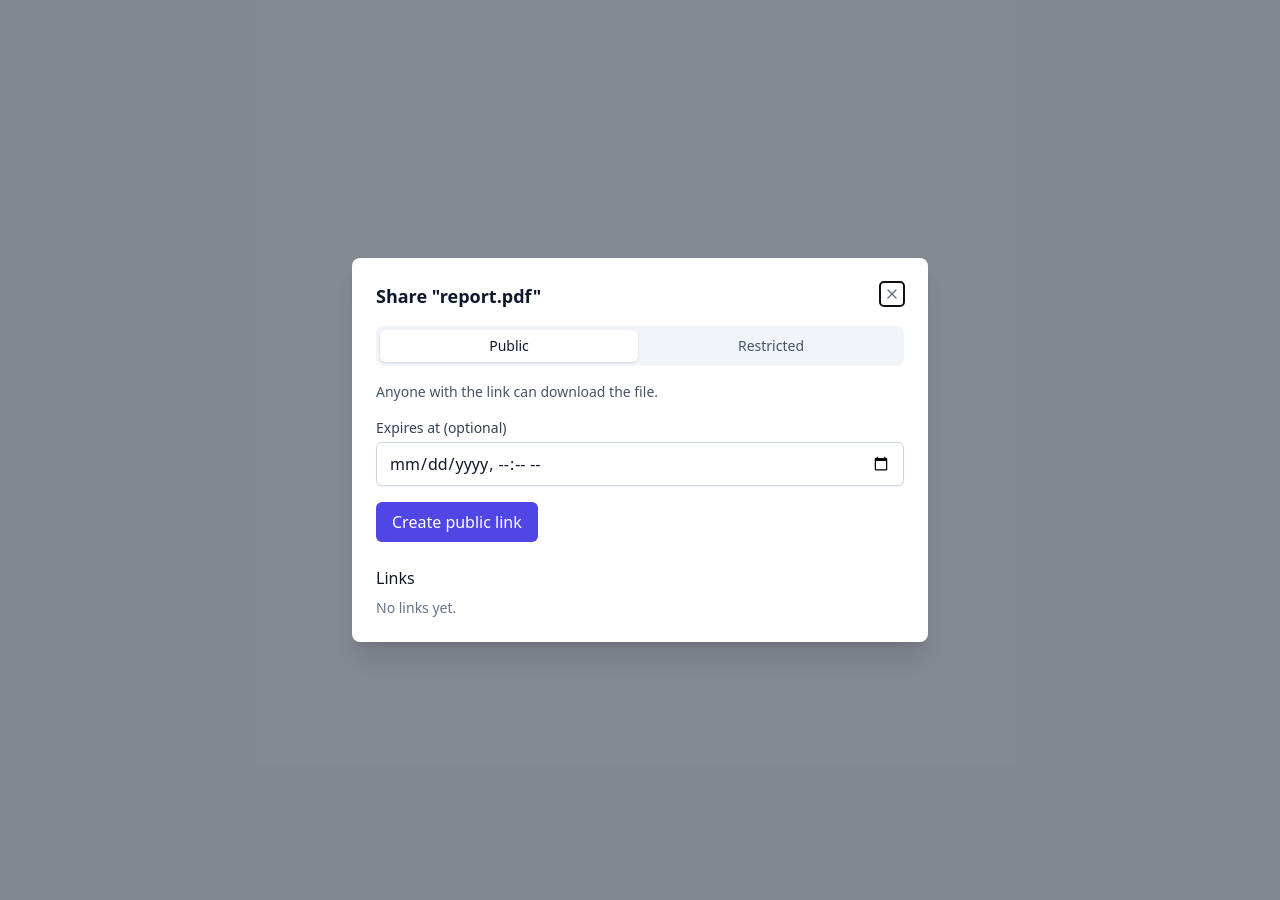
Test: ShareDialog › creates a restricted link for users picked via autocomplete
Click the tab "Restricted": (771,346) [642,330,900,362]
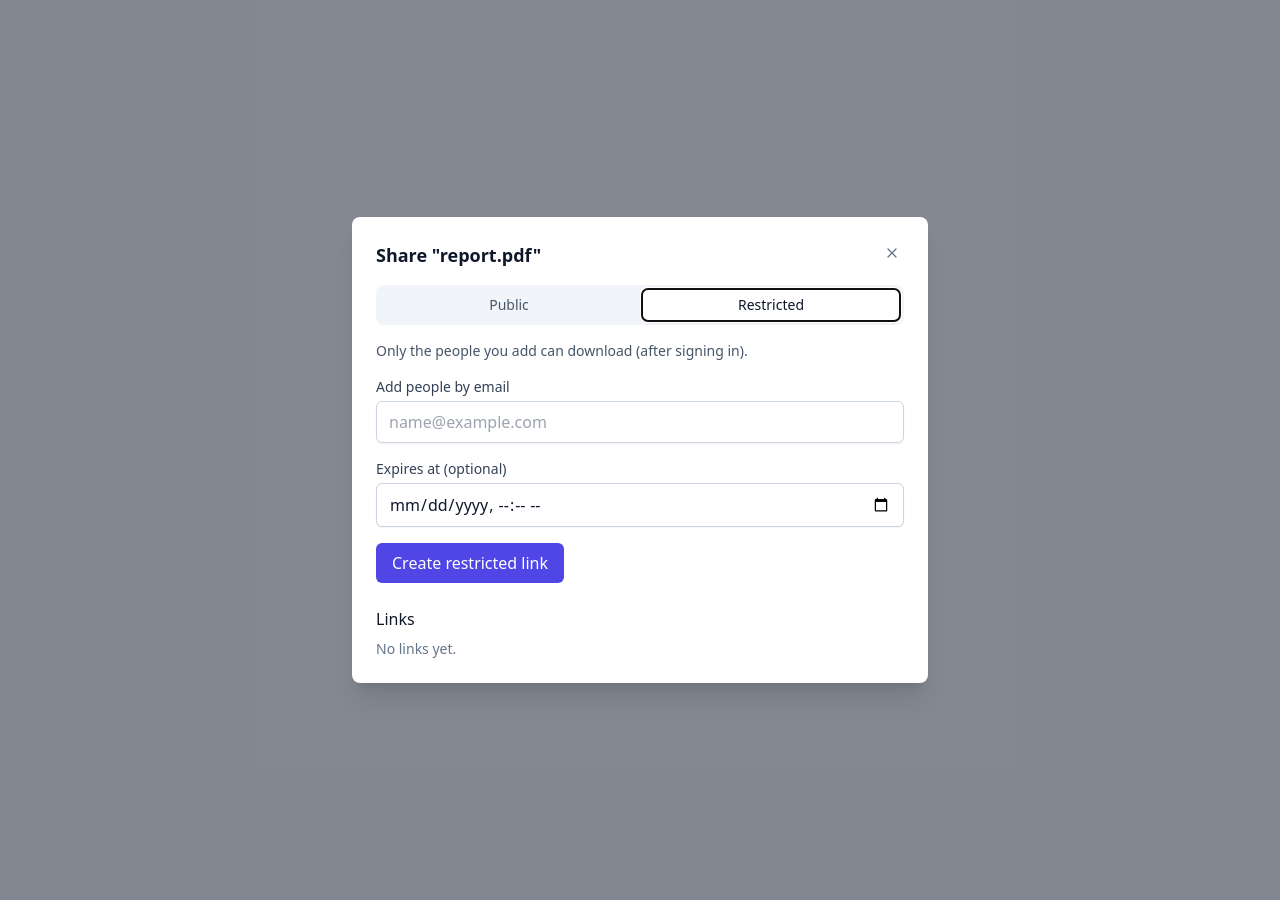
Click the button "Create restricted link": (470,563) [376,543,564,583]
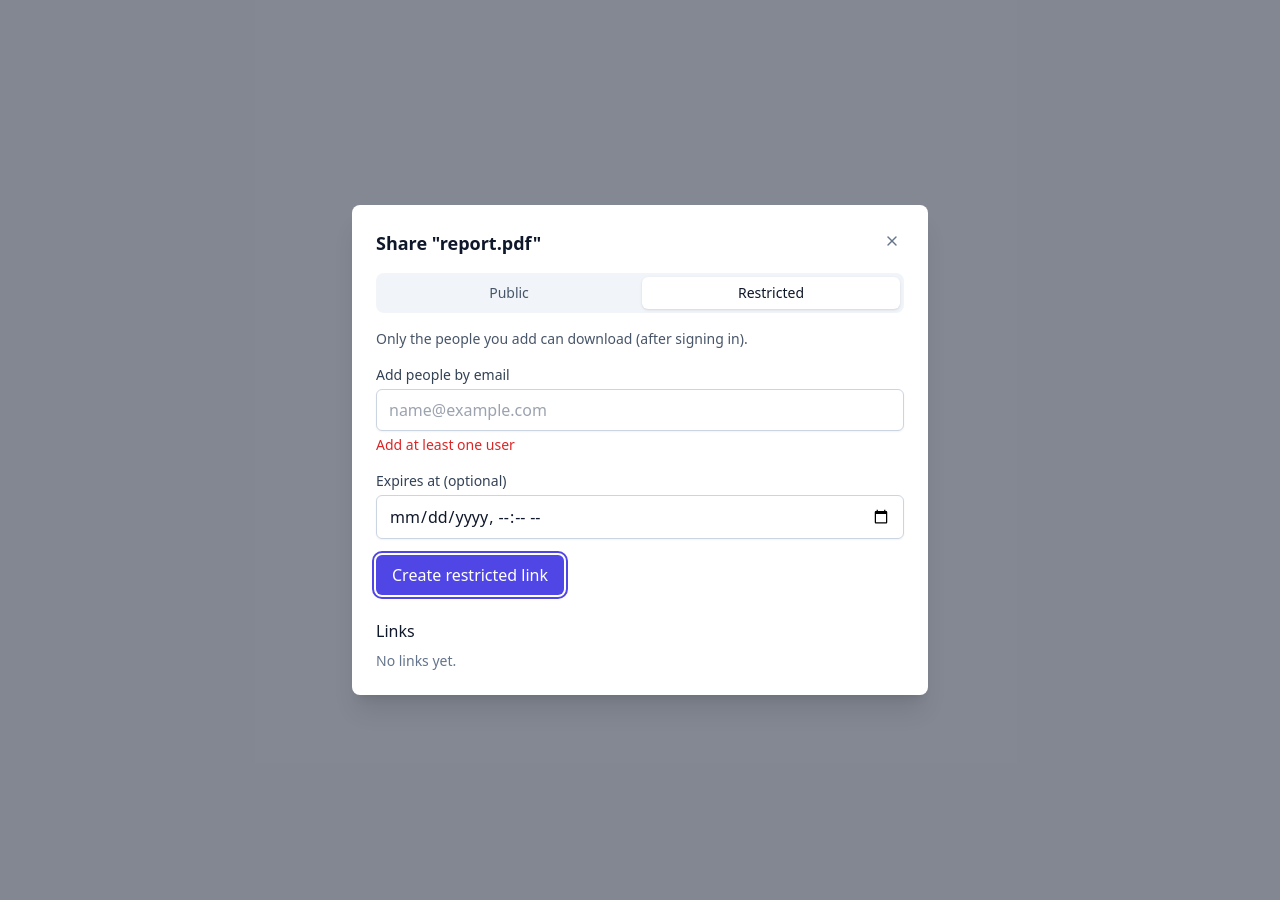
Expected: the text "Add at least one user" is shown, [376,435,515,454]
In the dropdown labelled "Add people by email": (640,410) [376,389,904,431], type "bob@"
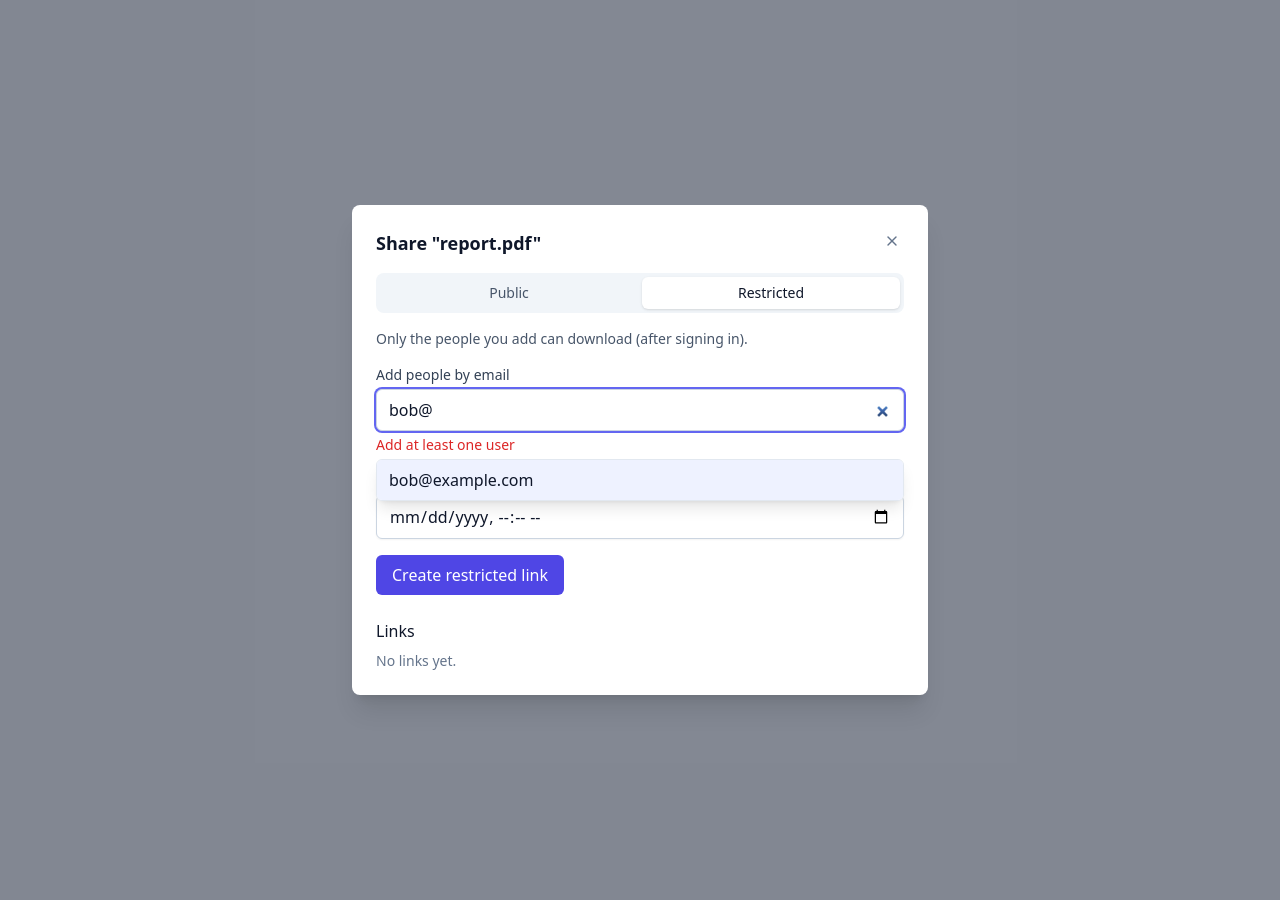
Click the option "bob@example.com": (461,480) [377,460,903,500]
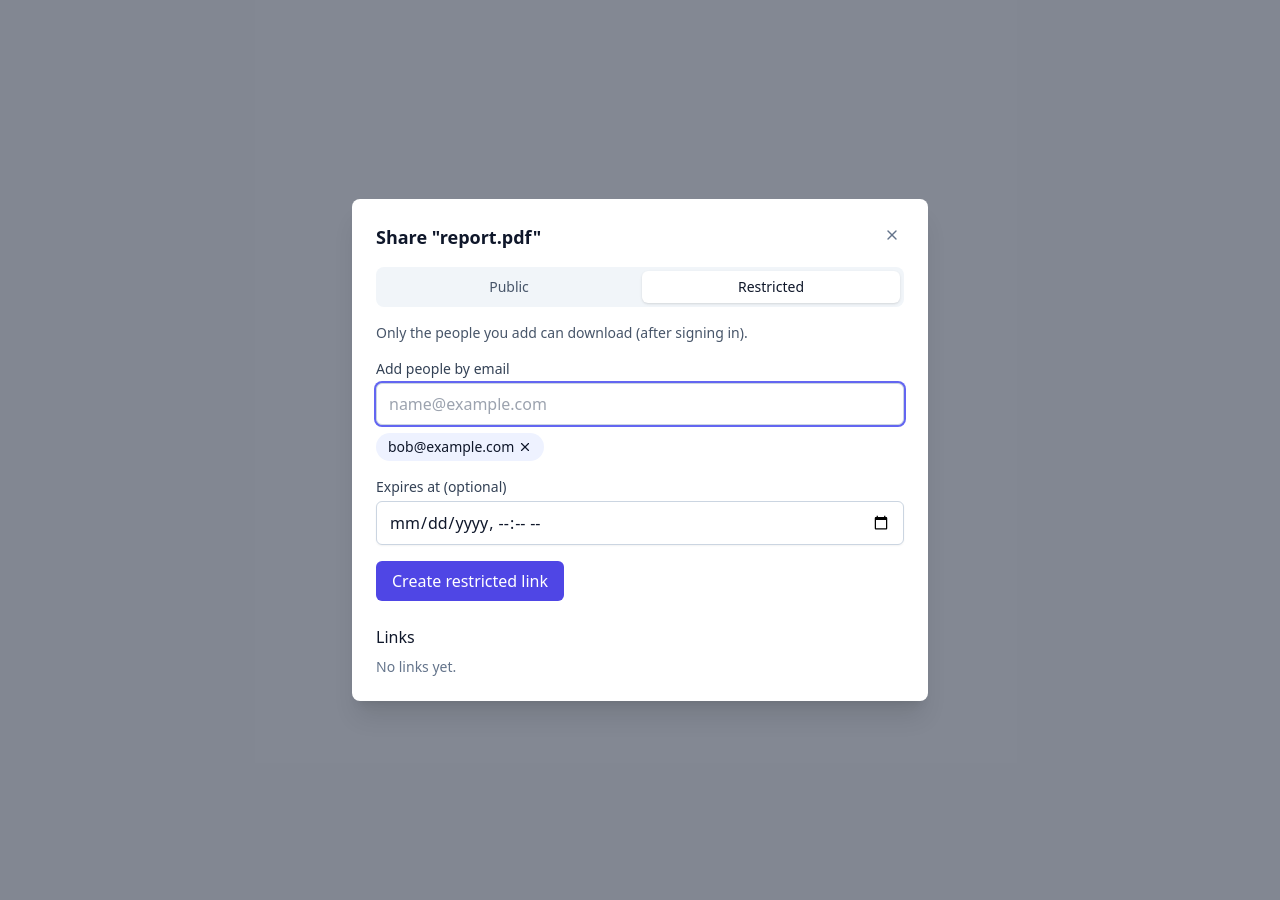
Expected: the list item "bob@example.com" is shown, [376,433,544,461]
Click the button "Create restricted link": (470,581) [376,561,564,601]
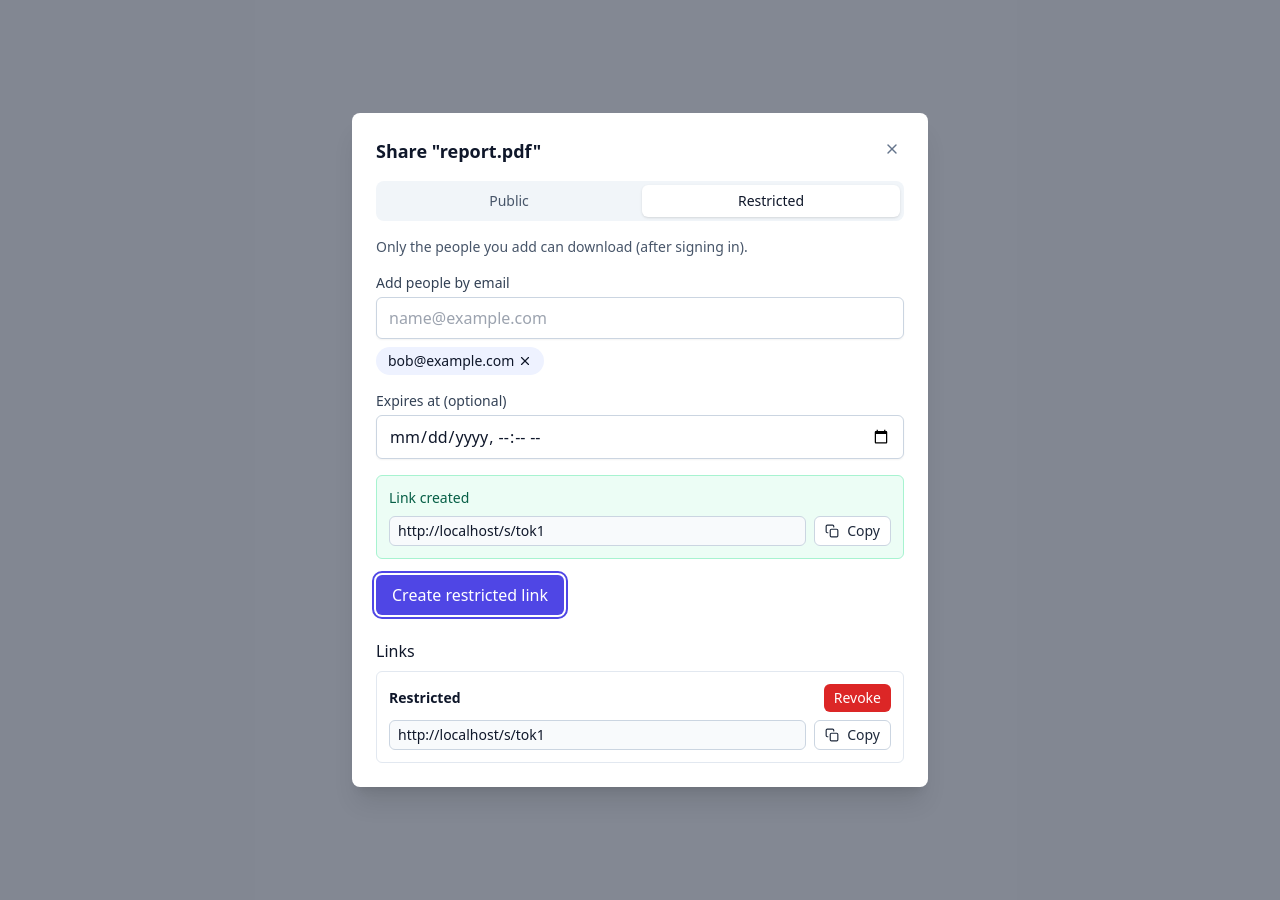
Expected: the text "Link created" is shown, [389,488,469,507]
